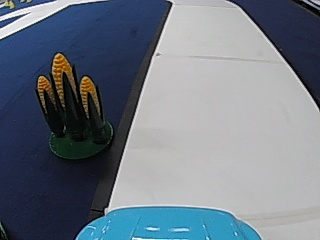corn: (34, 51, 115, 160)
